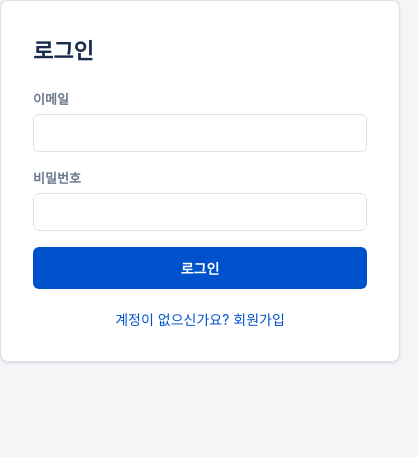
Test: M2: 로그인 성공했지만 토큰 저장 실패 → 전역 에러 표시, /dashboard 미이동(무한 루프 방지)
Type "user@example.com" into the field labelled "이메일" at (200, 133), box [33, 114, 367, 152]
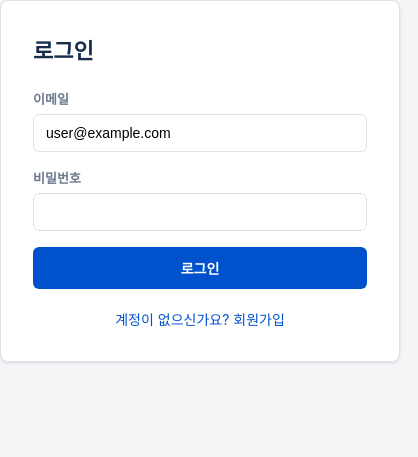
Type "Password1" into the password field labelled "비밀번호" at (200, 212), box [33, 193, 367, 231]
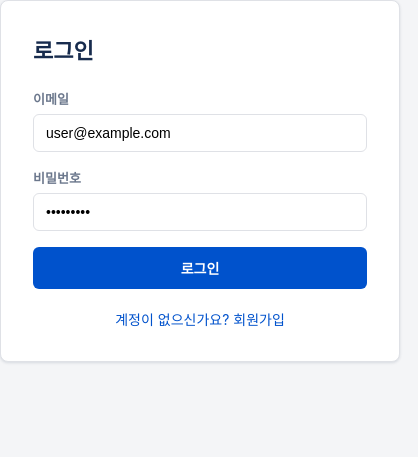
Click the button "로그인" at (200, 268), box [33, 247, 367, 289]
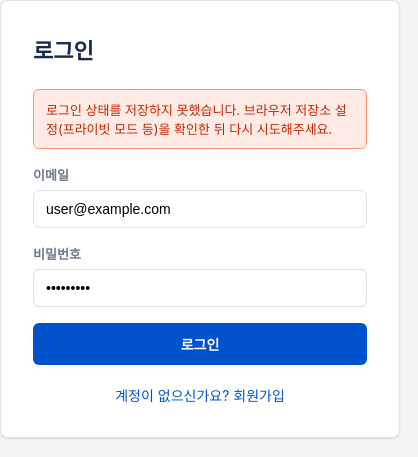
Expected: the text "로그인 상태를 저장하지 못했습니다. 브라우저 저장소 설정(프라이빗 모드 등)을 확인한 뒤 다시 시도해주세요." is shown, [33, 89, 367, 149]
